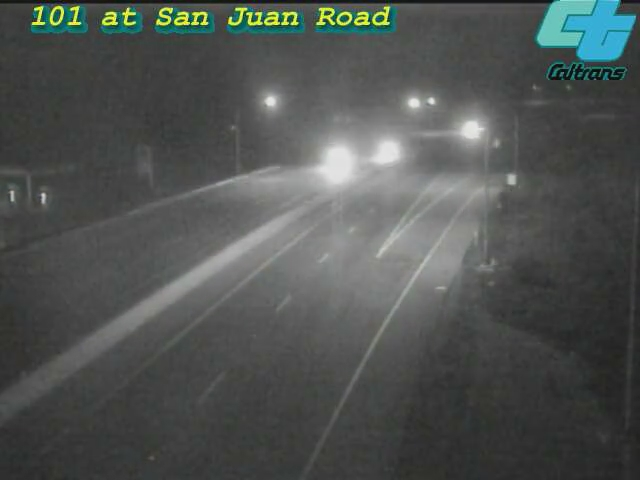vehicle: (187, 170, 267, 250), (297, 124, 377, 204), (347, 112, 427, 192), (442, 102, 492, 152)
